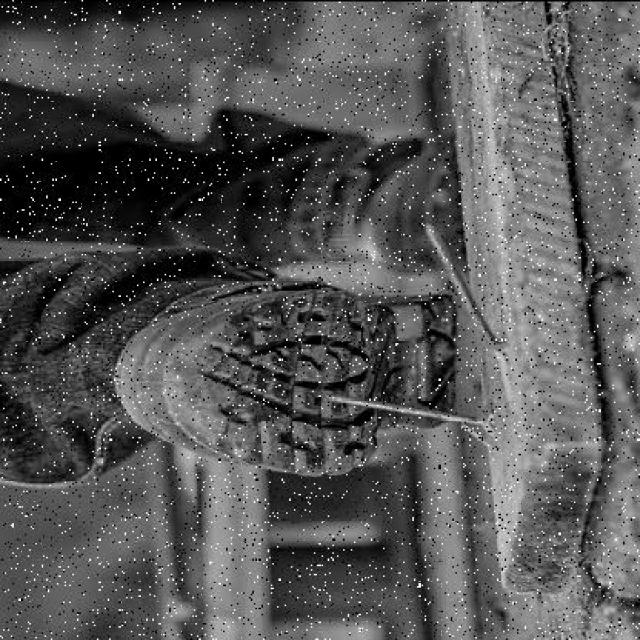shoes: (114, 285, 454, 477), (327, 120, 458, 274)
